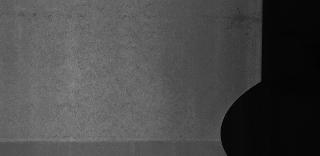welding line: (2, 136, 235, 148)
